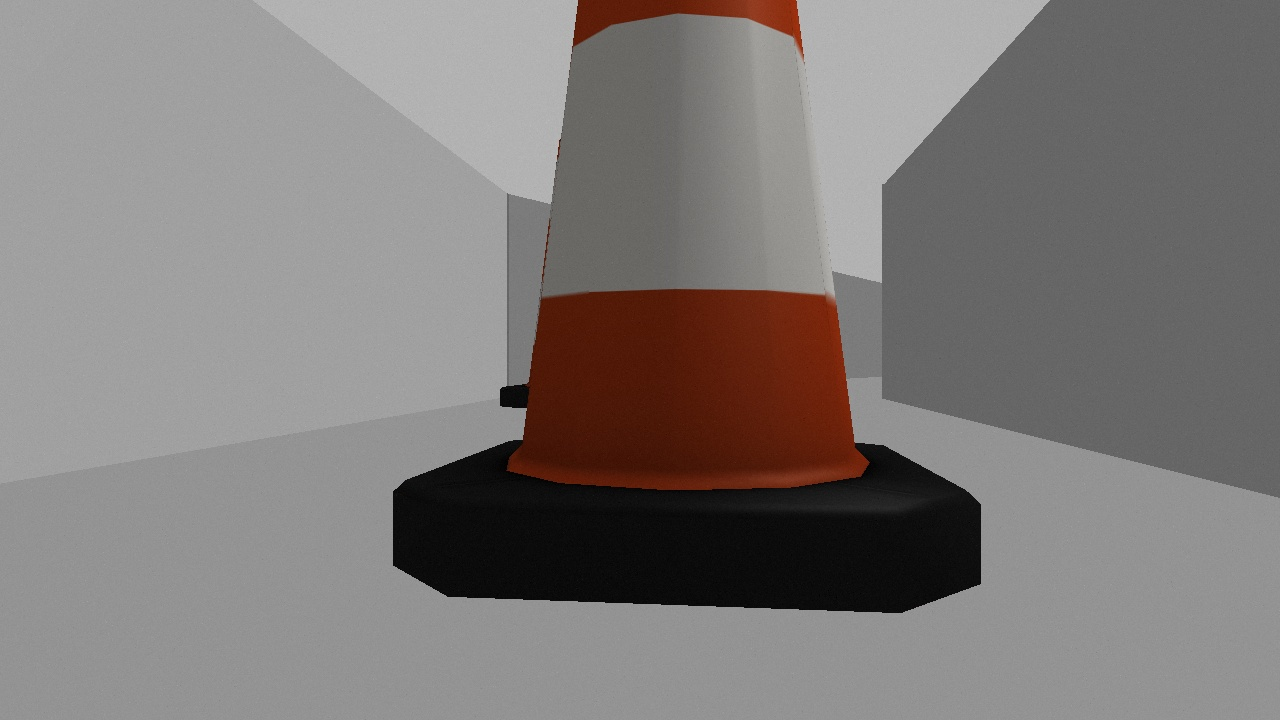barricade: (352, 1, 1013, 630)
